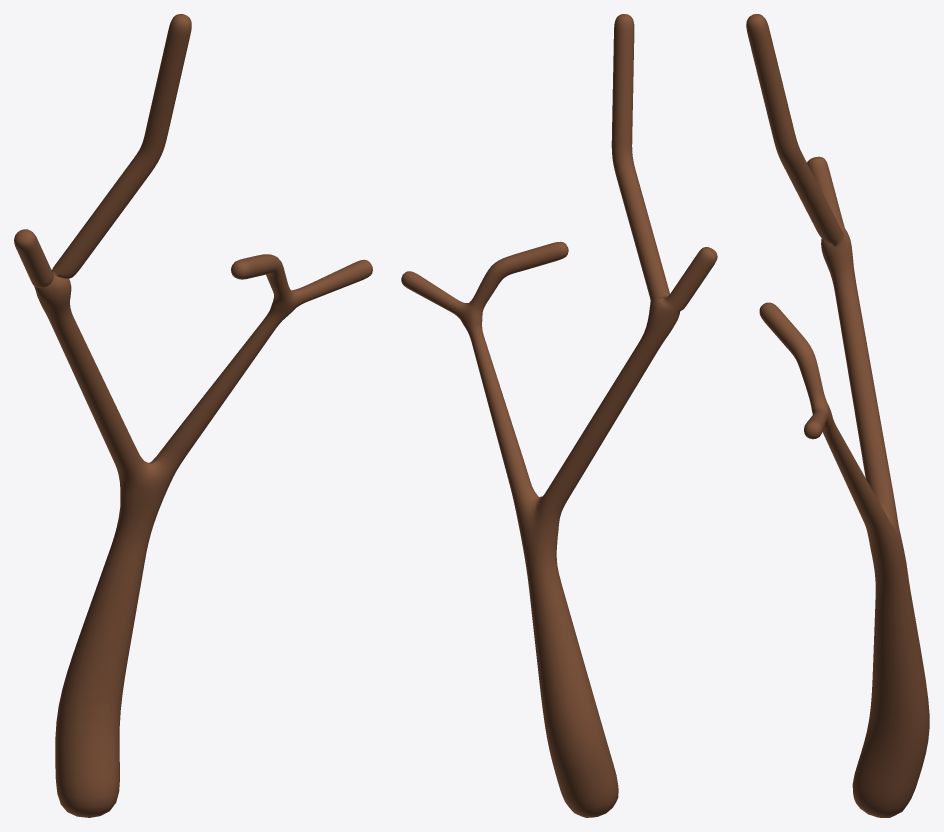
File: tree.glb
3 views of the same model, side by side, from view 1: azimuth 30°, elevation 25°; view 2: azimuth 150°, elevation 25°; view 3: azimuth 270°, elevation 25° (orthographic). The views are drawn at different scales.
Parts seen in each view (by area): view 1: Left; view 2: Left; view 3: Left.
Boxes of the visible parts, x1,y1,x2,y2 form: Left: (14, 14, 372, 817); Left: (401, 14, 717, 817); Left: (746, 14, 929, 817).
Size of the model in its own units: 1.49 by 3.38 by 0.6904.
